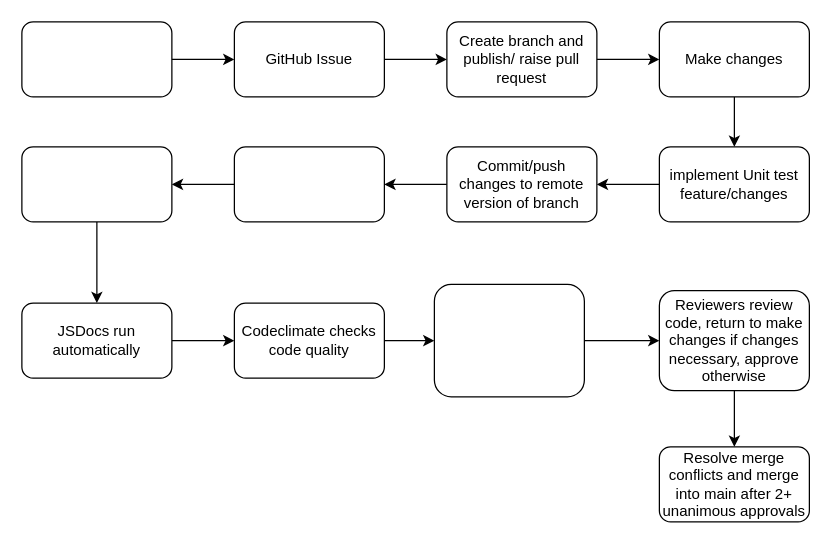
The diagram is 831 pixels wide and 544 high, and some of its shapes have lost their labels. Here are the shapes that lost their labels. From the top down, the centre of each, then its label:
the point at 96,59: Idea for change
the point at 96,184: Linters run automatically
the point at 308,184: Unit/e2e/integration tests run automatically
the point at 508,340: Assign peple to review PR
